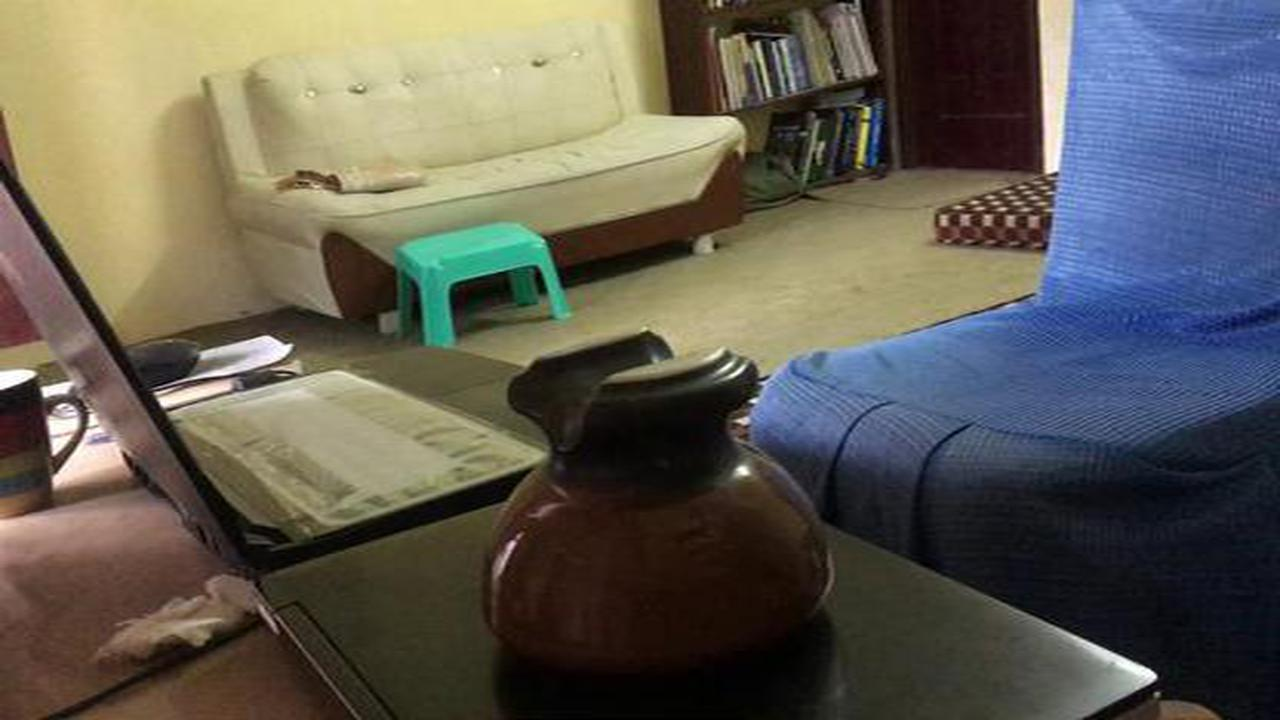insulator_pin: (453, 329, 853, 689)
